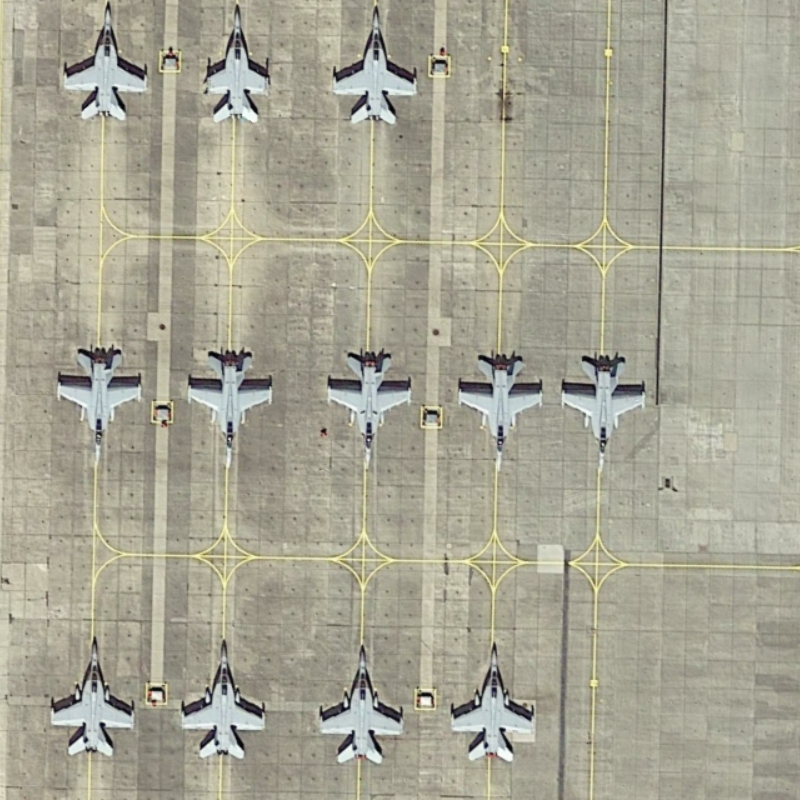A16: (177, 343, 285, 472), (43, 629, 143, 765), (46, 339, 148, 472), (171, 631, 271, 766), (321, 340, 421, 473), (554, 344, 653, 476), (326, 3, 425, 134), (446, 346, 548, 473), (310, 641, 409, 771), (54, 3, 154, 127), (445, 637, 538, 769), (193, 3, 274, 132)
